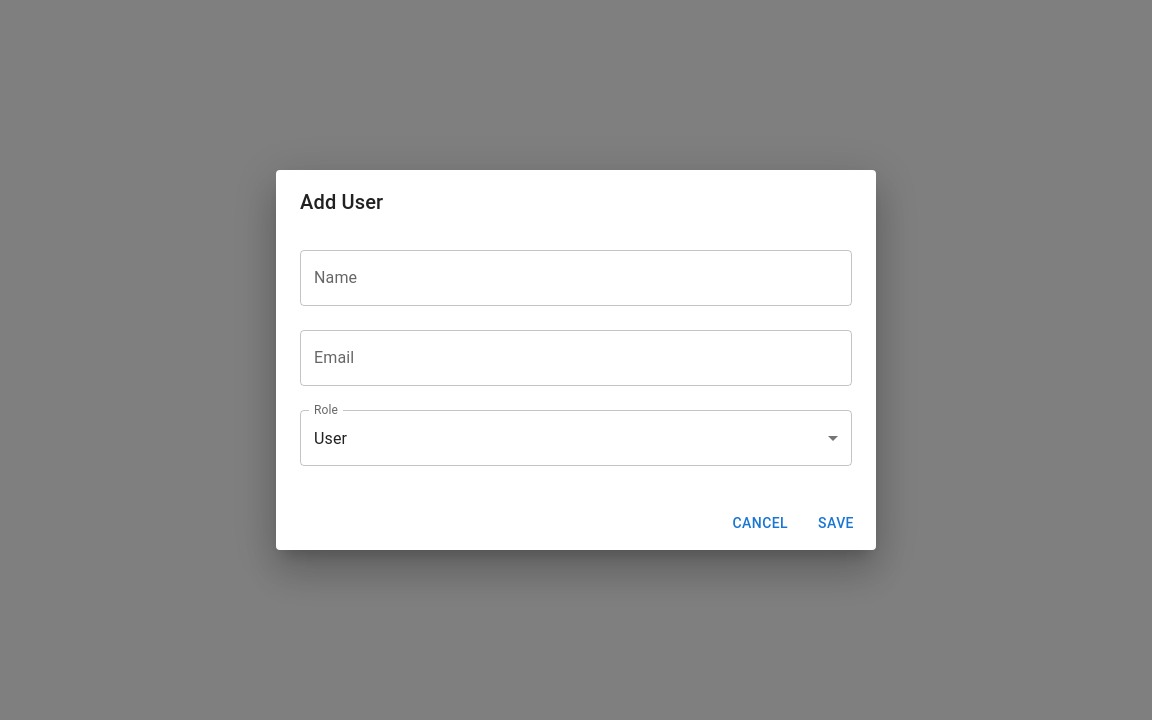
AddEditUserModal › should show validation errors if the form is invalid
The image size is (1152, 720).
Click the button "Save".
click(836, 524)  # box left=804, top=505, right=868, bottom=542
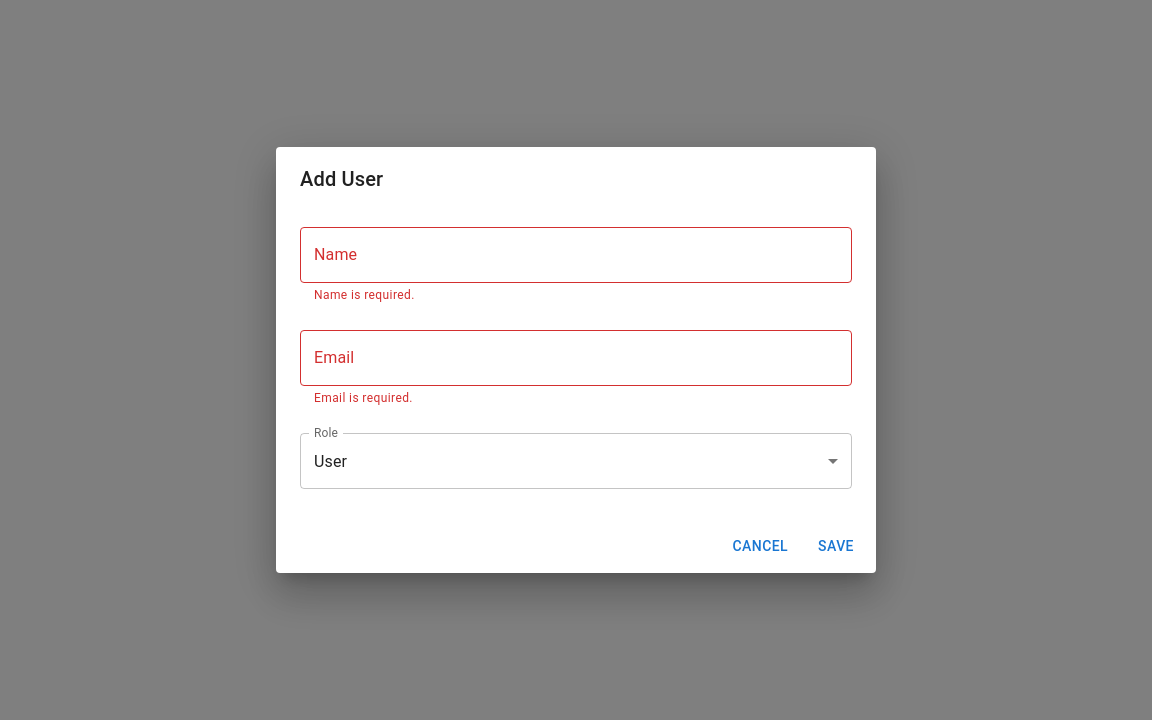
Result: the text "Name is required." is shown at left=314, top=288, right=415, bottom=302
Result: the text "Email is required." is shown at left=314, top=391, right=413, bottom=405
